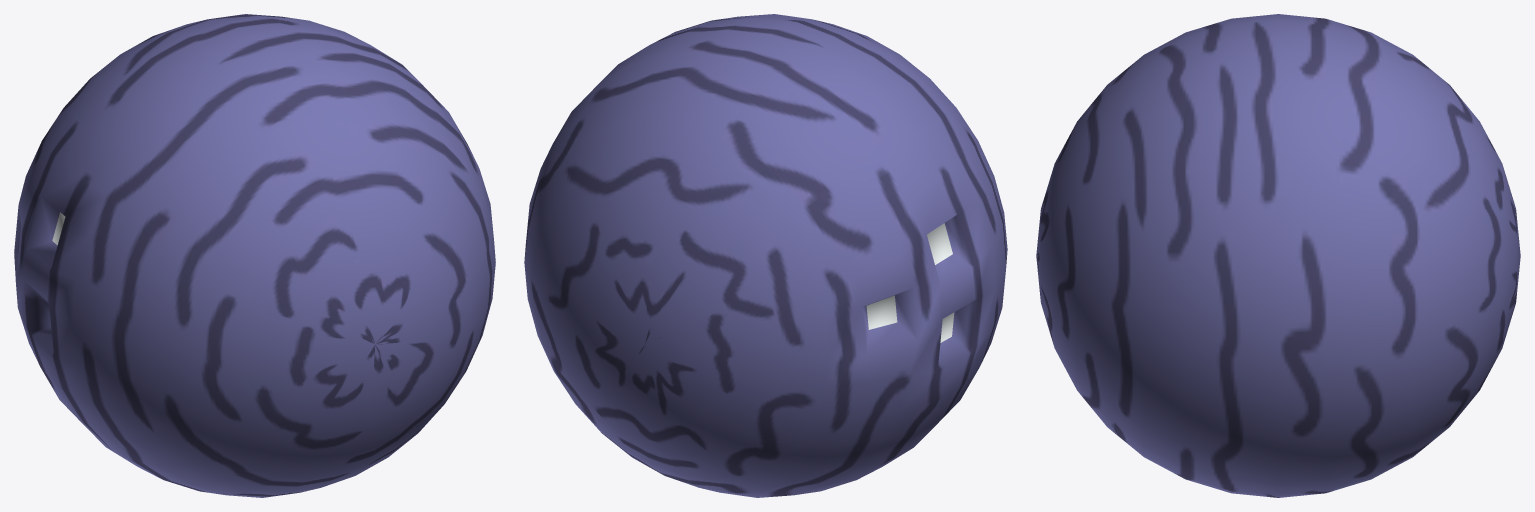
The model's file is item-bowling-ball.glb.
3 renders of one model, left to right at view 1: azimuth 30°, elevation 25°; view 2: azimuth 150°, elevation 25°; view 3: azimuth 270°, elevation 25°, orthographic.
Size of the model in its own units: 1.99 by 2 by 2.
Materials: 2 (2 with a texture image).
